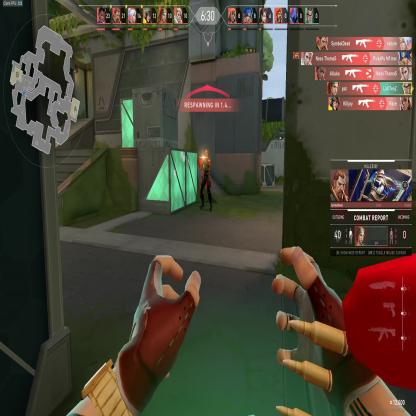enemy: (199, 148, 213, 212)
